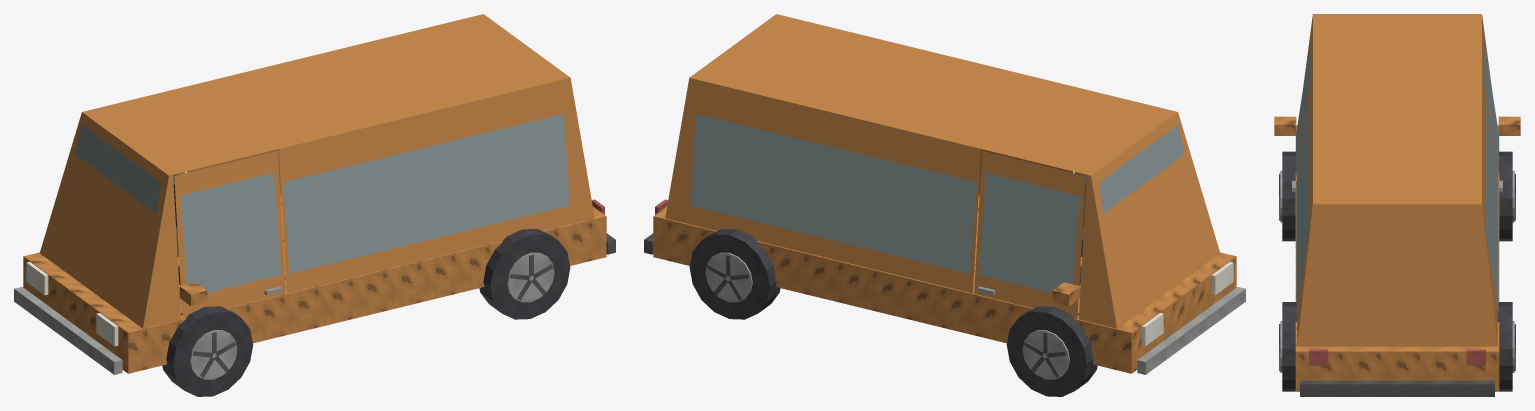
Rendered from vehicle_service_van.glb.
3 renders of one model, left to right at view 1: azimuth 30°, elevation 25°; view 2: azimuth 150°, elevation 25°; view 3: azimuth 270°, elevation 25°, orthographic. The views are drawn at different scales.
Parts seen in each view (by area): view 1: body_panel.006, door_mirror.013, hub.025, hub.027; view 2: body_panel.006, door_mirror.012, hub.024, hub.026; view 3: body_panel.006, hub.026, hub.027, door_mirror.012, door_mirror.013, hub.024, hub.025.
Part boxes in pixels (x1=…): body_panel.006: x1=14, y1=14, x2=615, y2=374; door_mirror.013: x1=174, y1=151, x2=285, y2=318; hub.025: x1=162, y1=306, x2=253, y2=396; hub.027: x1=479, y1=229, x2=570, y2=319; body_panel.006: x1=644, y1=14, x2=1245, y2=374; door_mirror.012: x1=974, y1=151, x2=1085, y2=318; hub.024: x1=1006, y1=306, x2=1097, y2=396; hub.026: x1=689, y1=229, x2=780, y2=319; body_panel.006: x1=1295, y1=14, x2=1499, y2=396; hub.026: x1=1495, y1=302, x2=1515, y2=391; hub.027: x1=1279, y1=302, x2=1299, y2=391; door_mirror.012: x1=1482, y1=19, x2=1520, y2=191; door_mirror.013: x1=1274, y1=19, x2=1312, y2=191; hub.024: x1=1499, y1=151, x2=1515, y2=241; hub.025: x1=1279, y1=151, x2=1295, y2=241.
Size of the model in its own units: 4.88 by 2.01 by 2.14.
Materials: 7 (7 with a texture image).
